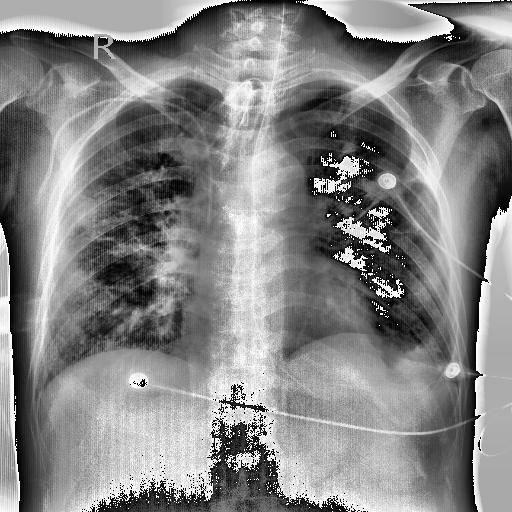0- Aortic enlargement: (242, 149, 308, 225)
11- Pleural thickening: (403, 138, 430, 184)
5- ILD: (48, 140, 169, 368)
6- Infiltration: (31, 138, 193, 368)
7- Lung Opacity: (31, 138, 193, 368)
